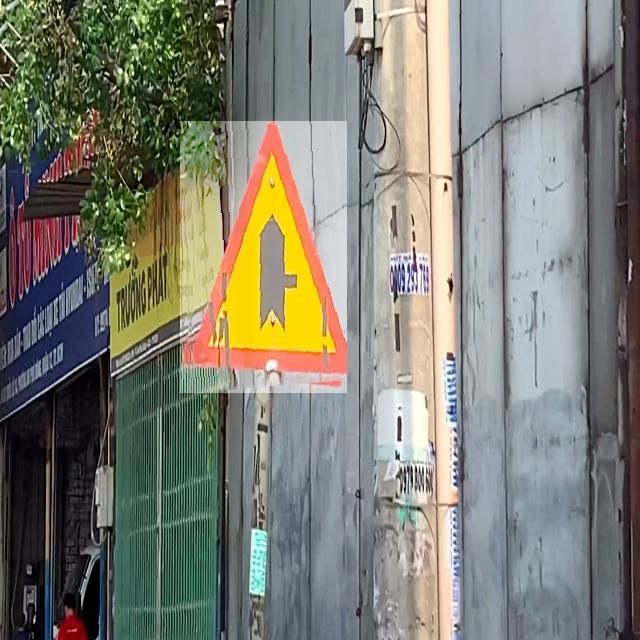W-207b: (180, 121, 347, 393)
